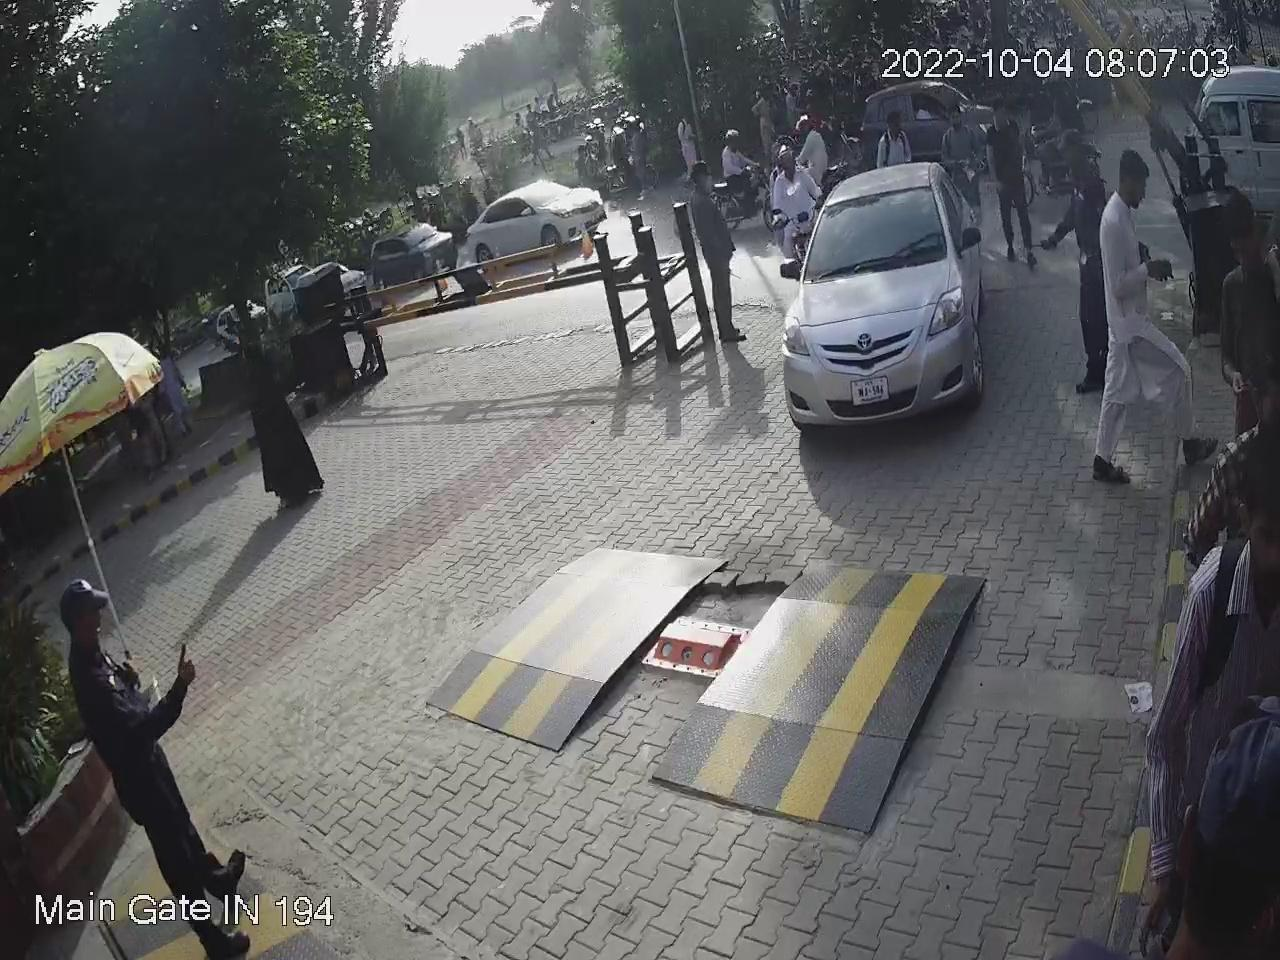windshield: (800, 183, 955, 285)
